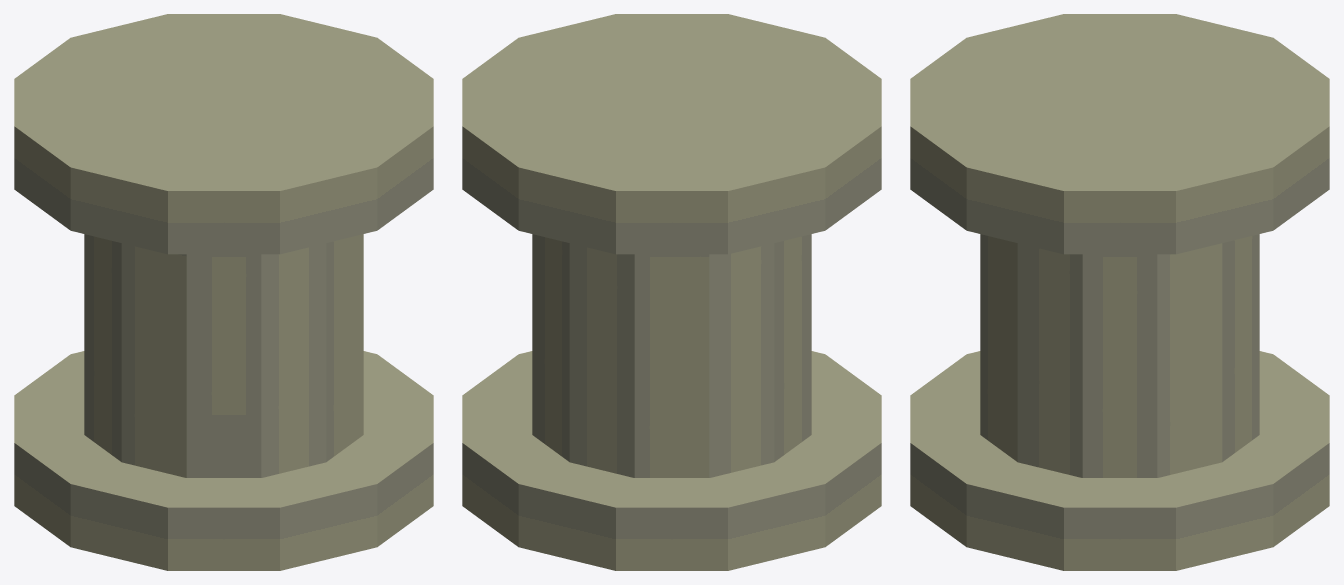
Rendered from pedestal.fbx.
3 renders of one model, left to right at view 1: azimuth 30°, elevation 25°; view 2: azimuth 150°, elevation 25°; view 3: azimuth 270°, elevation 25°, orthographic.
Parts seen in each view (by area): view 1: cylinder_1, cylinder, cylinder_2; view 2: cylinder_1, cylinder, cylinder_2; view 3: cylinder_1, cylinder, cylinder_2.
Boxes of the visible parts, x1,y1,x2,y2 form: cylinder_1: (14, 14, 433, 254); cylinder: (84, 234, 363, 477); cylinder_2: (14, 351, 433, 570); cylinder_1: (462, 14, 881, 254); cylinder: (532, 234, 811, 477); cylinder_2: (462, 351, 881, 570); cylinder_1: (910, 14, 1329, 254); cylinder: (980, 234, 1259, 477); cylinder_2: (910, 351, 1329, 570).
Size of the model in its own units: 75 by 75 by 75.
1 material, 1 textured.
